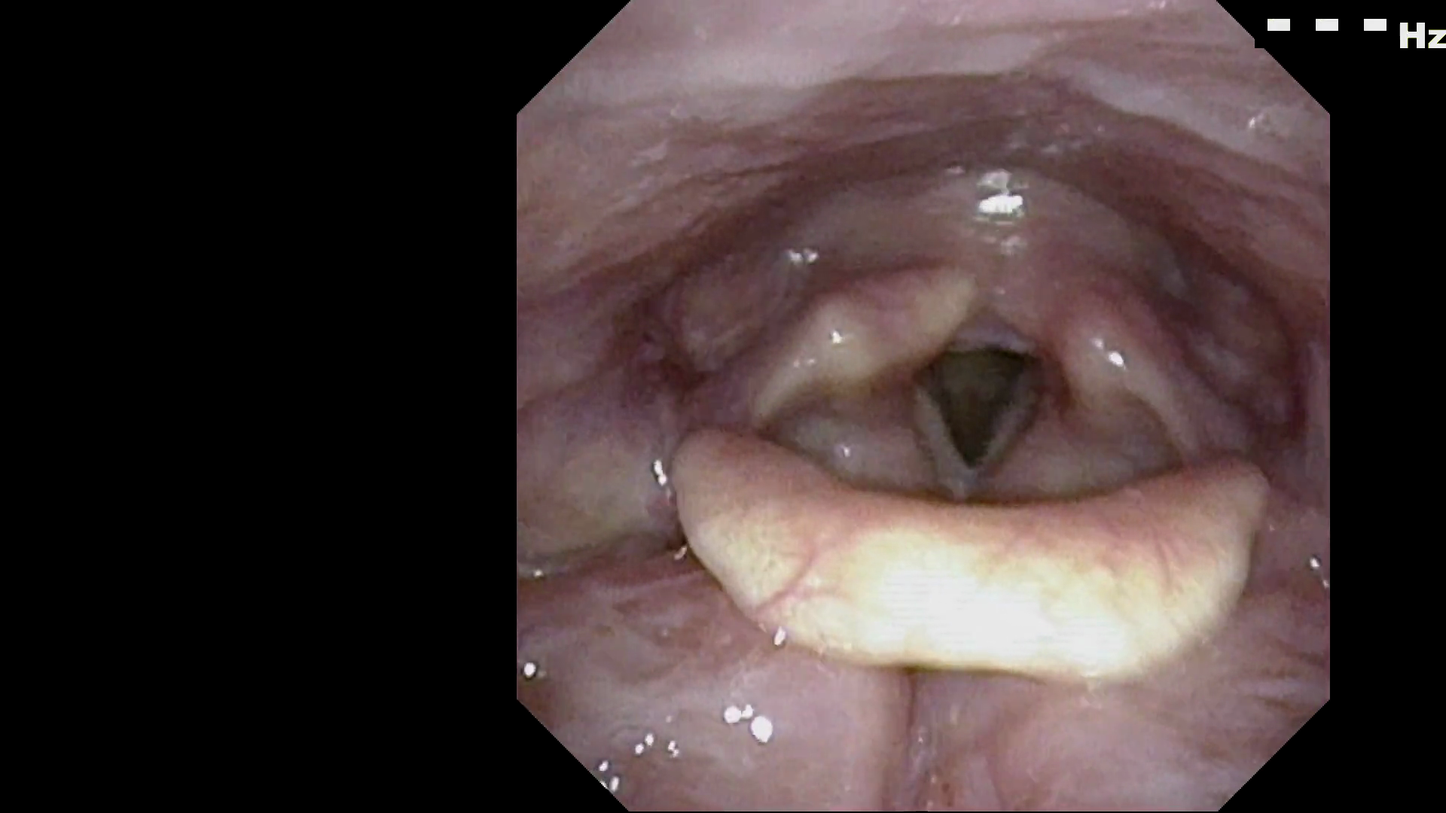epiglottis: (658, 411, 1275, 683)
trachea: (894, 315, 1058, 486)
